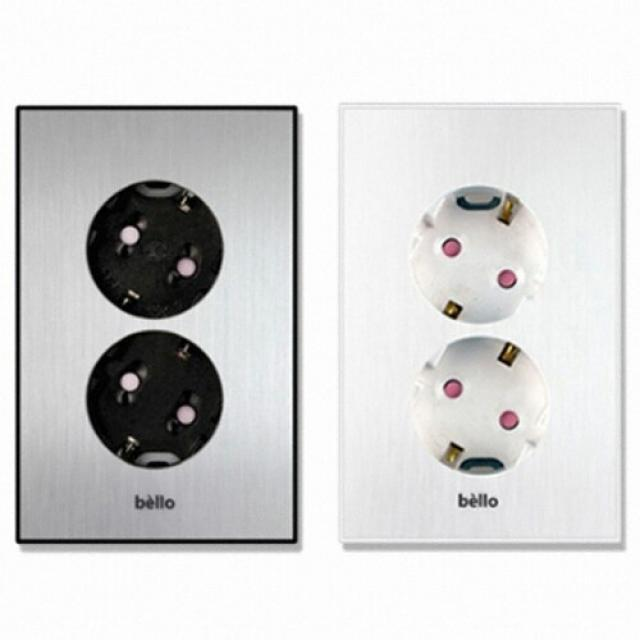typeb: (7, 87, 306, 576), (326, 92, 628, 572)
